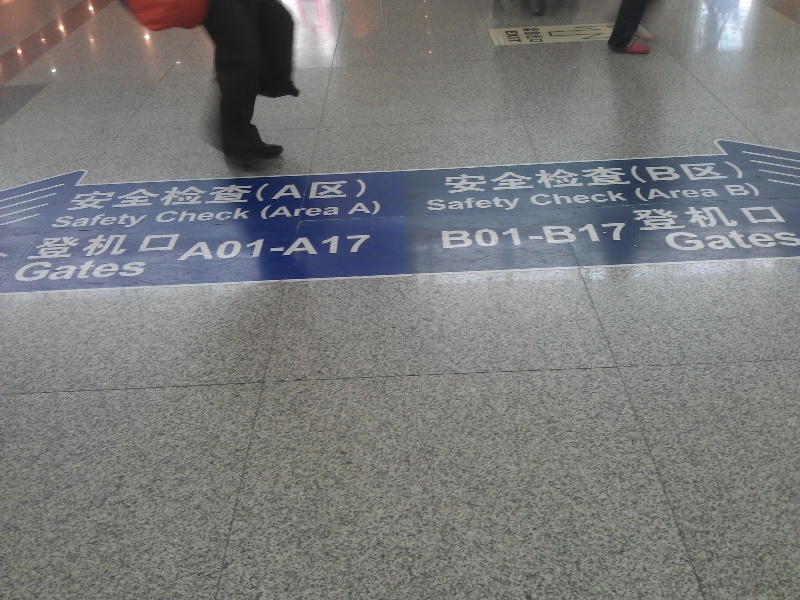text: (353, 179, 369, 212), (449, 161, 464, 194), (465, 161, 480, 194), (481, 161, 496, 194), (497, 161, 512, 194), (513, 161, 528, 194), (529, 161, 544, 194), (545, 161, 560, 194), (561, 161, 576, 194), (577, 161, 592, 194), (593, 161, 608, 194), (609, 161, 624, 194), (625, 161, 640, 194), (641, 161, 656, 194), (657, 161, 672, 194), (673, 161, 688, 194), (689, 161, 704, 194), (705, 161, 720, 194), (721, 161, 736, 194), (81, 179, 96, 212), (97, 179, 112, 212), (113, 179, 128, 212), (129, 179, 144, 212), (145, 179, 160, 212), (161, 179, 176, 212), (177, 179, 192, 212), (193, 179, 208, 212), (209, 179, 224, 212), (225, 179, 240, 212), (241, 179, 256, 212), (257, 179, 272, 212), (273, 179, 288, 212), (289, 179, 304, 212), (305, 179, 320, 212), (321, 179, 336, 212), (337, 179, 352, 212), (49, 231, 64, 261), (65, 231, 80, 261), (81, 231, 96, 261), (97, 231, 112, 261), (113, 231, 128, 261), (129, 231, 144, 261), (145, 231, 160, 261), (161, 231, 176, 261), (193, 234, 208, 263), (209, 234, 224, 263), (225, 234, 240, 263), (241, 234, 256, 263), (257, 234, 272, 263), (273, 234, 288, 263), (289, 234, 304, 263), (305, 234, 320, 263), (321, 234, 336, 263), (337, 234, 352, 263), (353, 234, 368, 263), (673, 226, 688, 254), (689, 226, 704, 254), (705, 226, 720, 254), (721, 226, 736, 254), (737, 226, 752, 254), (753, 226, 768, 254), (769, 226, 784, 254), (785, 226, 800, 254), (449, 222, 464, 249), (465, 222, 480, 249), (481, 222, 496, 249), (497, 222, 512, 249), (513, 222, 528, 249), (529, 222, 544, 249), (545, 222, 560, 249), (561, 222, 576, 249), (577, 222, 592, 249), (593, 222, 608, 249), (609, 222, 624, 249), (641, 206, 656, 231), (657, 206, 672, 231), (673, 206, 688, 231), (689, 206, 704, 231), (705, 206, 720, 231), (721, 206, 736, 231), (737, 206, 752, 231), (753, 206, 768, 231), (769, 206, 784, 231), (33, 259, 48, 282), (49, 259, 64, 282), (65, 259, 80, 282), (81, 259, 96, 282), (97, 259, 112, 282), (113, 259, 128, 282), (129, 259, 144, 282), (737, 161, 747, 194), (65, 212, 80, 233), (81, 212, 96, 233), (97, 212, 112, 233), (113, 212, 128, 233), (129, 212, 144, 233), (545, 188, 560, 209), (561, 188, 576, 209), (577, 188, 592, 209), (593, 188, 608, 209), (609, 188, 624, 209), (530, 188, 544, 209), (433, 195, 448, 214), (449, 195, 464, 214), (465, 195, 480, 214), (481, 195, 496, 214), (497, 195, 512, 214), (161, 207, 176, 225), (177, 207, 192, 225), (193, 207, 208, 225), (209, 207, 224, 225), (225, 207, 240, 225), (273, 202, 288, 220), (289, 202, 304, 220), (305, 202, 320, 220), (321, 202, 336, 220), (641, 185, 656, 203), (657, 185, 672, 203), (673, 185, 688, 203), (689, 185, 704, 203), (529, 27, 544, 44), (737, 182, 752, 199), (241, 207, 255, 225), (705, 185, 719, 203), (353, 201, 368, 217), (631, 206, 640, 231), (664, 226, 672, 254), (724, 182, 736, 199), (261, 202, 272, 220), (369, 201, 381, 217), (24, 259, 32, 282), (513, 29, 525, 44), (442, 222, 448, 249), (177, 231, 182, 261), (145, 259, 151, 282), (513, 195, 520, 214), (444, 161, 448, 194), (58, 212, 64, 233), (44, 231, 48, 261), (504, 29, 512, 44), (753, 182, 760, 199), (188, 234, 192, 263), (625, 222, 629, 249), (634, 185, 640, 203), (522, 27, 528, 44), (427, 195, 432, 214), (369, 234, 372, 263), (145, 212, 149, 233), (625, 188, 629, 209), (347, 201, 352, 217), (785, 206, 788, 231), (156, 207, 160, 225), (337, 202, 341, 220), (79, 179, 80, 212), (545, 27, 546, 44)
